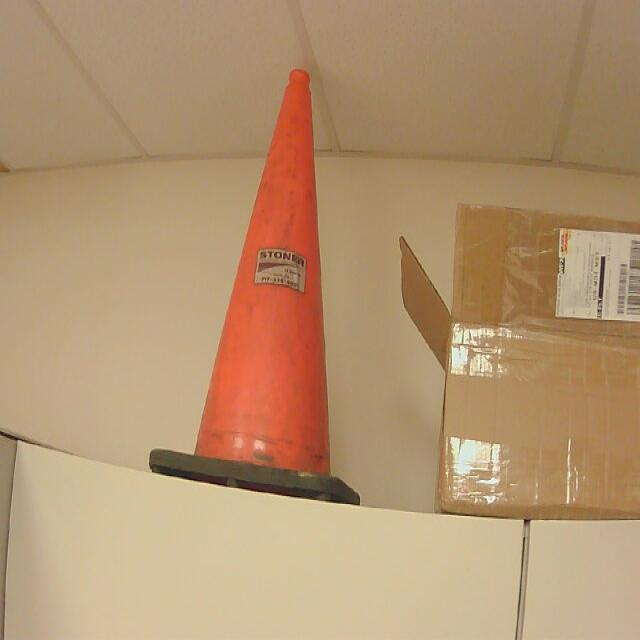traffic cone: (149, 69, 361, 505)
